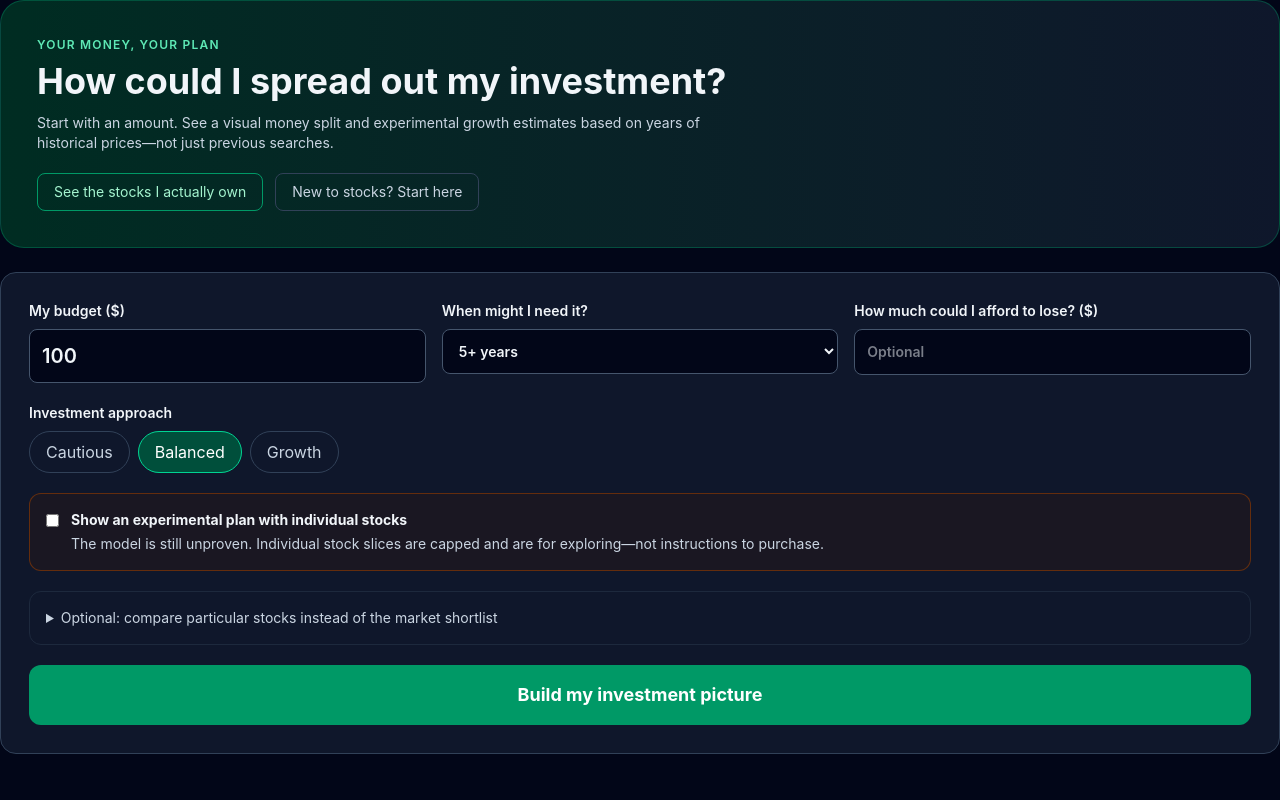
Scenario: Visual investment home › reports scanner failure instead of spinning forever in StrictMode
This screenshot has width=1280, height=800.
Click the button "Build my investment picture": {"x": 640, "y": 695} [29,665,1251,725]
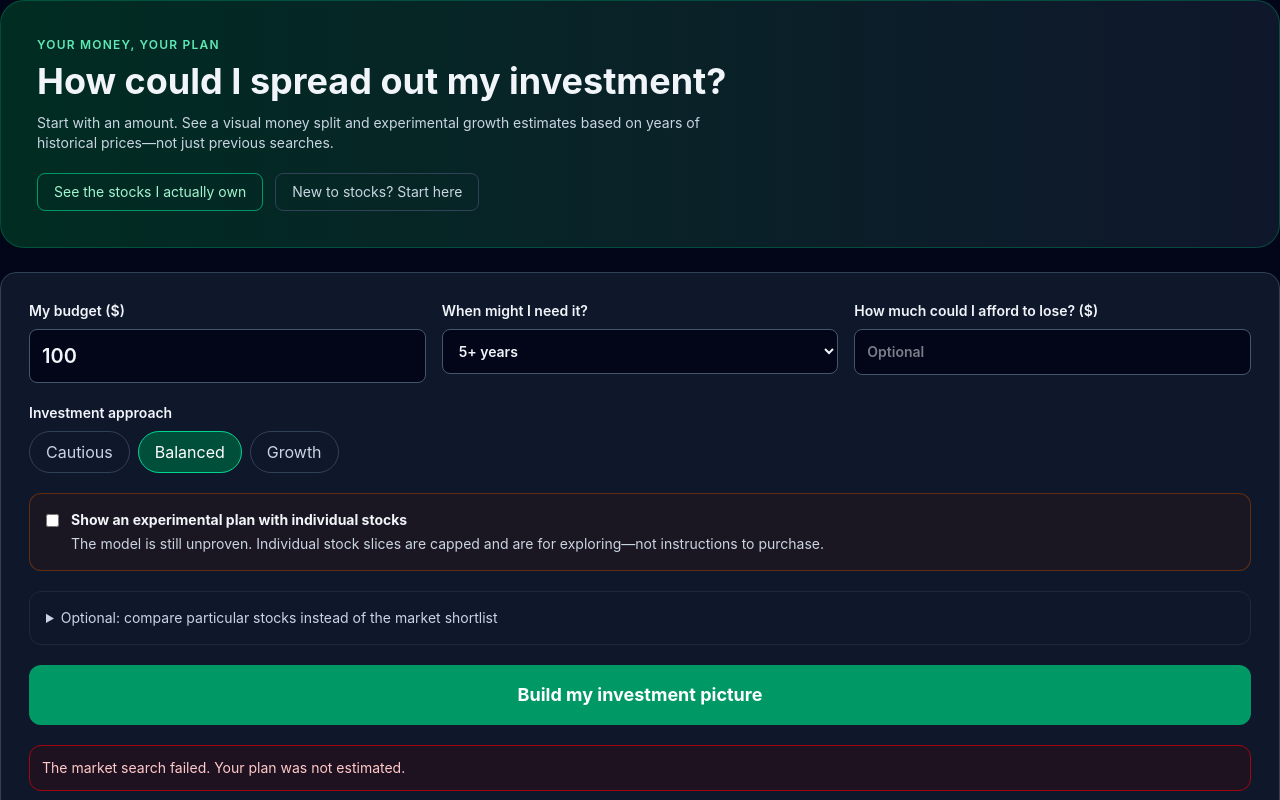
Expected: the message shows "market search failed", [42,759,405,776]
